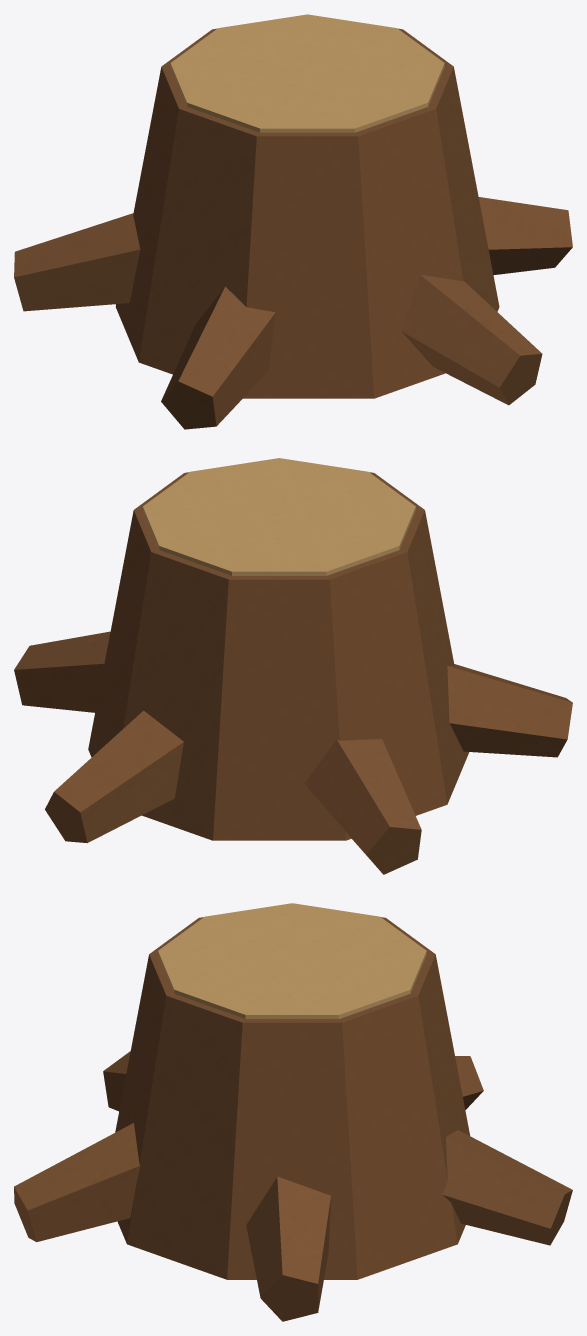
The model's file is innerscene-low-poly-stump.glb.
The picture shows the model from 3 angles, top to bottom: view 1: azimuth 30°, elevation 25°; view 2: azimuth 150°, elevation 25°; view 3: azimuth 270°, elevation 25°; orthographic projection. The views are drawn at different scales.
Parts seen in each view (by area): view 1: Stump trunk 001, Stump top 002, Root flare 007, Root flare 006, Root flare 005, Root flare 003; view 2: Stump trunk 001, Stump top 002, Root flare 004, Root flare 005, Root flare 006, Root flare 003; view 3: Stump trunk 001, Stump top 002, Root flare 007, Root flare 003, Root flare 004, Root flare 006, Root flare 005.
Boxes of the visible parts, x1,y1,x2,y2 form: Stump trunk 001: (115,28,499,398); Stump top 002: (170,14,444,132); Root flare 007: (401,274,542,405); Root flare 006: (161,286,275,429); Root flare 005: (14,213,140,311); Root flare 003: (478,197,572,275); Stump trunk 001: (88,472,469,840); Stump top 002: (142,458,415,575); Root flare 004: (45,710,183,843); Root flare 005: (304,739,421,874); Root flare 006: (447,664,572,757); Root flare 003: (14,631,110,712); Stump trunk 001: (115,917,470,1279); Stump top 002: (158,903,426,1018); Root flare 007: (14,1123,140,1242); Root flare 003: (246,1176,330,1321); Root flare 004: (442,1130,572,1245); Root flare 006: (103,1051,130,1111); Root flare 005: (455,1056,483,1109).
Size of the model in its own units: 1.18 by 0.5945 by 1.23.
2 materials, 2 textured.
